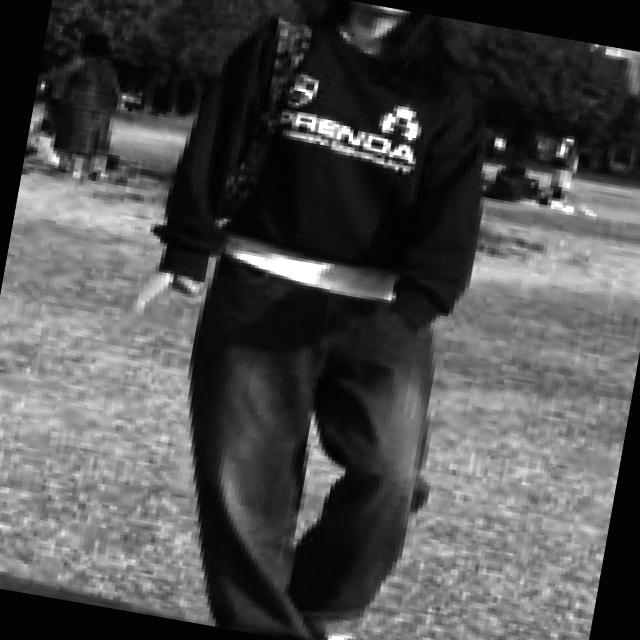denimpants: (141, 247, 463, 640)
mtm: (144, 0, 511, 337)
